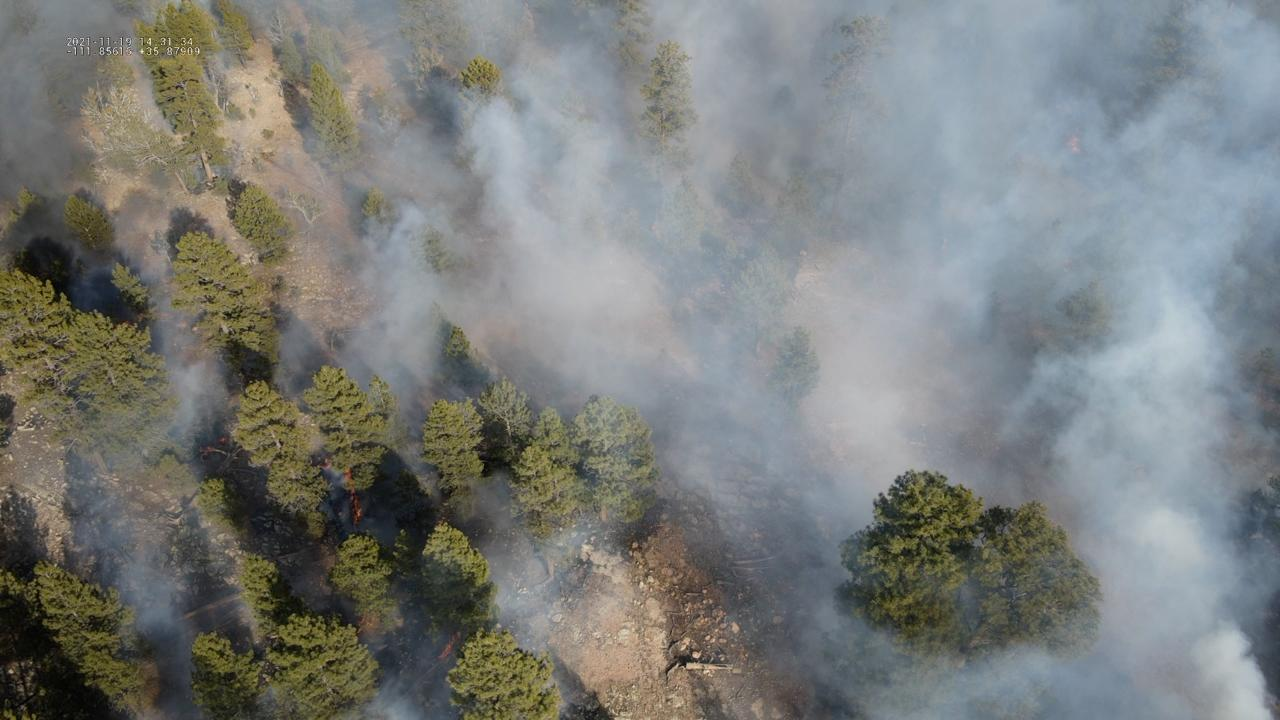fire: (342, 468, 364, 528), (436, 632, 460, 662), (1068, 134, 1085, 157), (220, 436, 228, 445)
smoke: (0, 0, 1280, 720)
